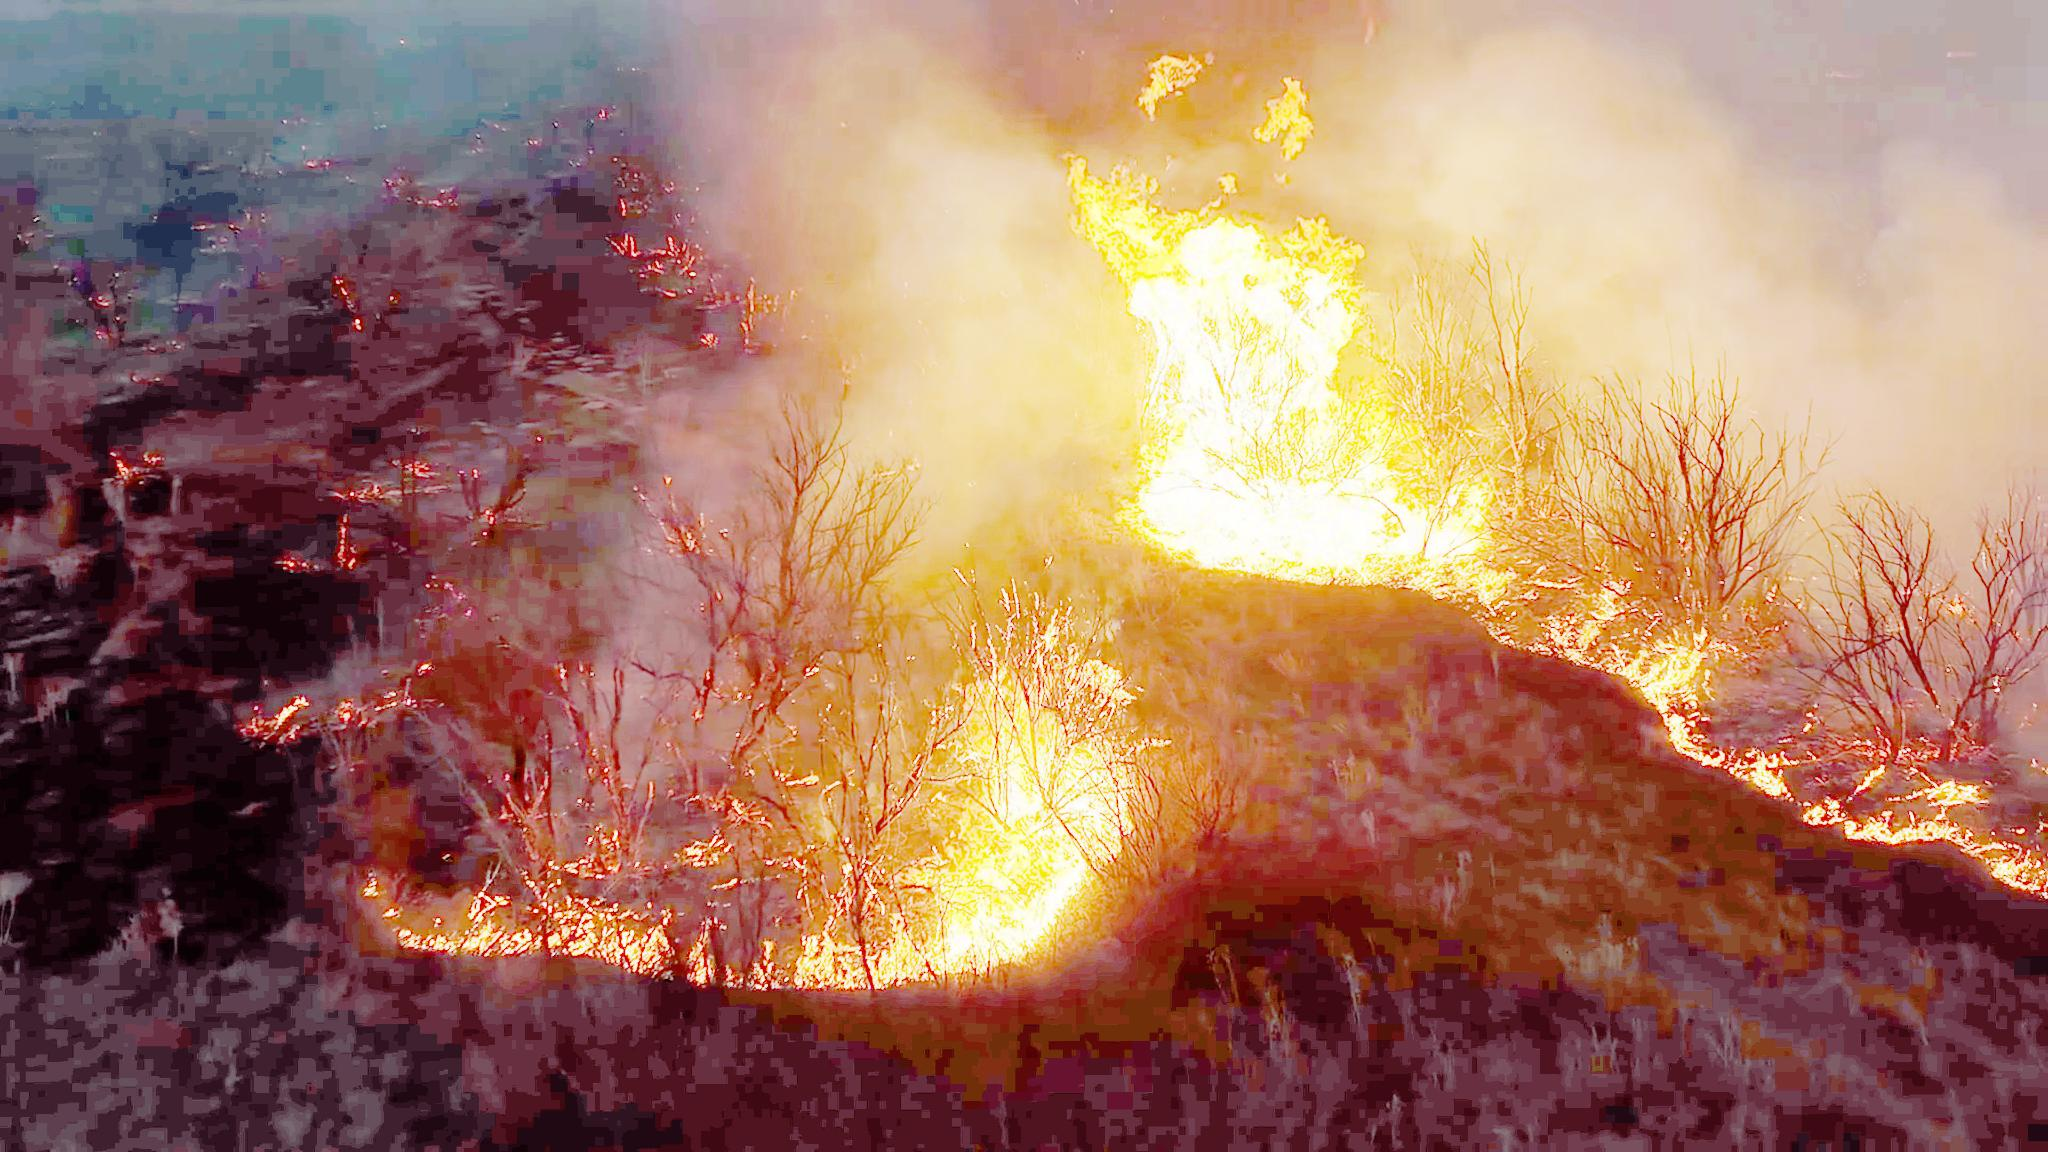fire: (1070, 56, 1498, 599), (823, 626, 1163, 994)
